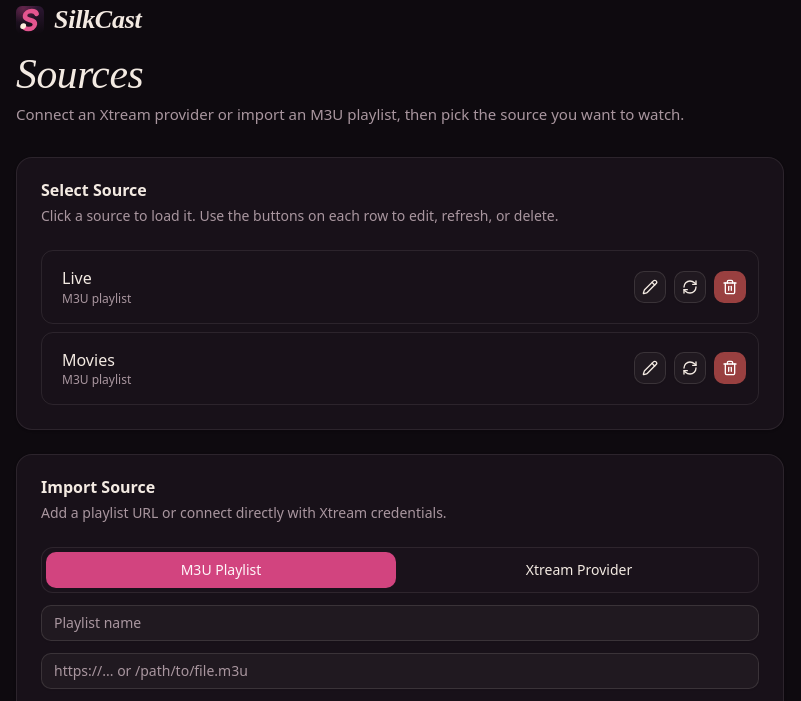
Test: HomePage › edits a source from its row action
The width and height of the screenshot is (801, 701).
Click the button named "Edit" in the row of "Movies": [650, 368] box [634,352,666,384]
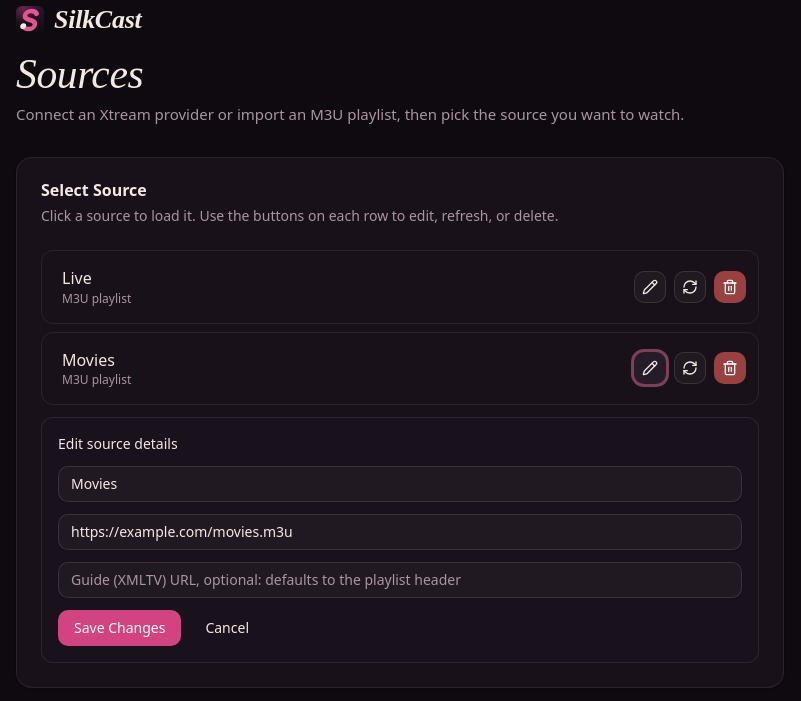
Replace the text in the 1st field showing "Movies" with "Movies HD": [400, 484] box [58,466,742,502]
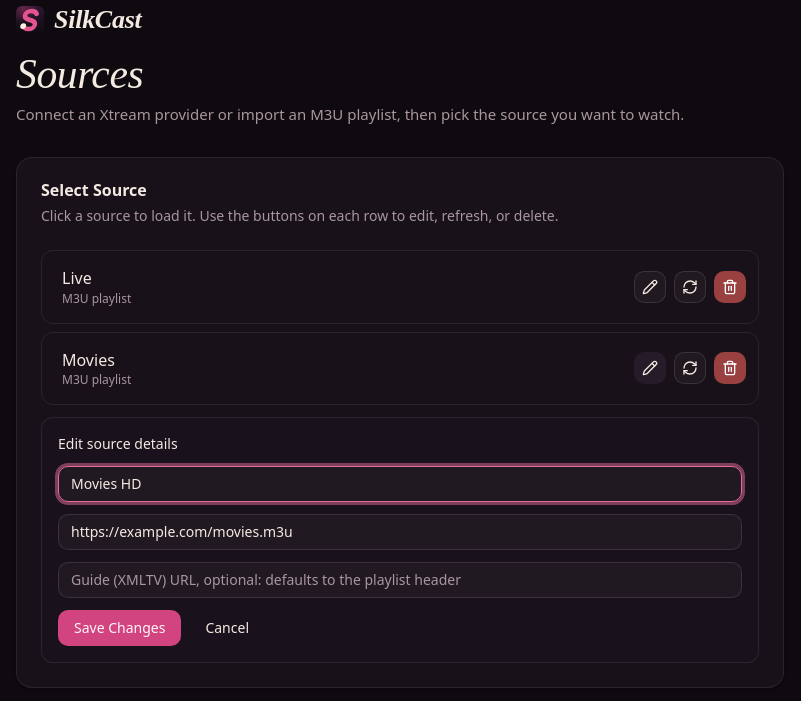
Replace the text in the 2nd field showing "https://example.com/movies.m3u" with "https://example.com/movies-hd.m3u": [400, 532] box [58,514,742,550]
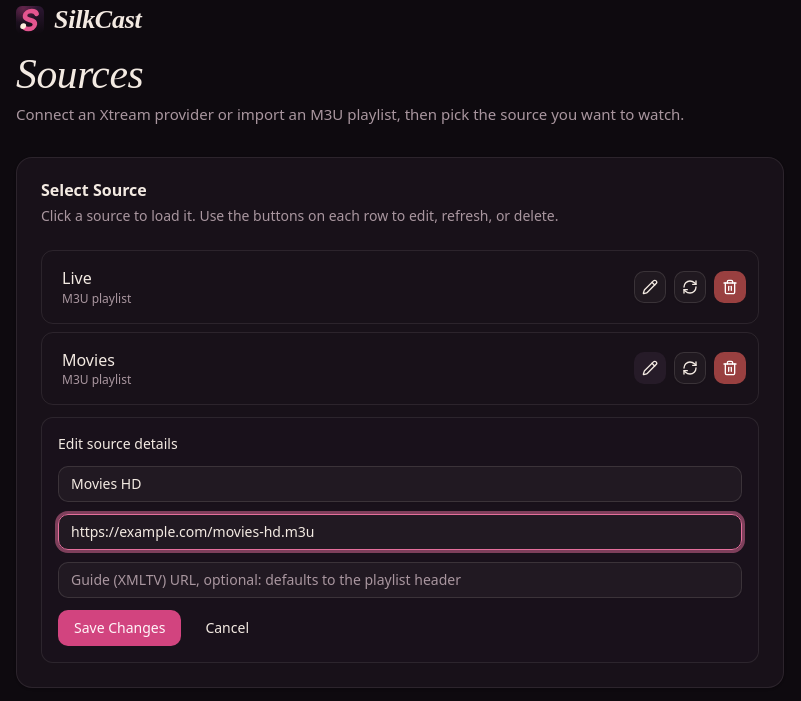
Click the button "Save Changes": [120, 628] box [58,610,181,646]
(page scrolled)
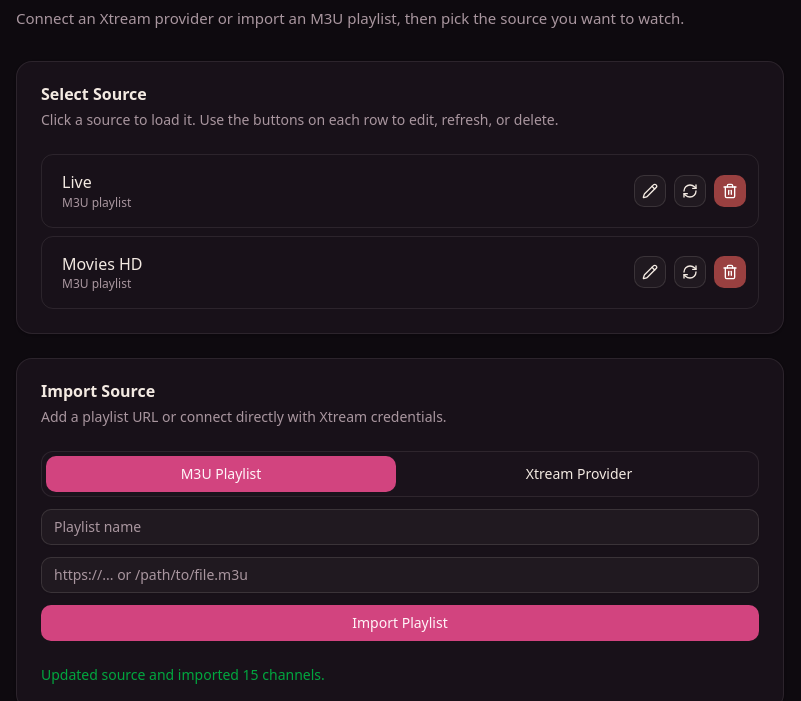
Result: the text "Updated source and imported 15 channels." is shown at [41,665,325,685]
